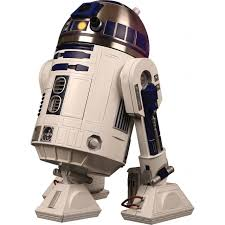r2d2: (31, 1, 194, 224)
